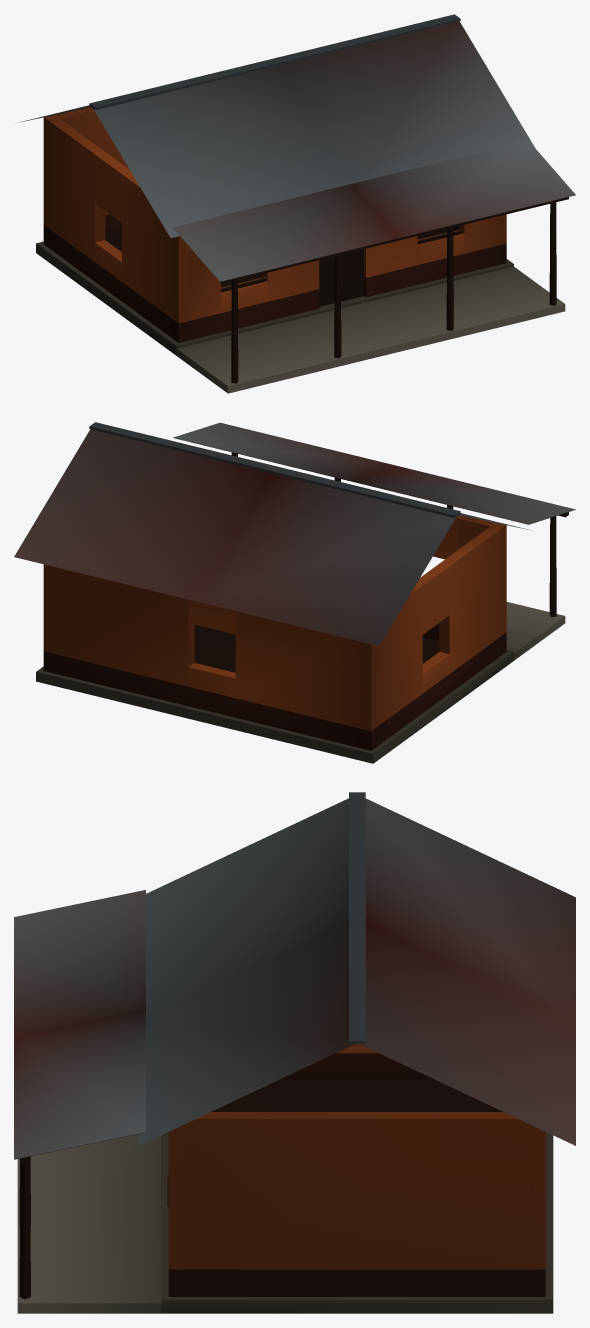
File: fm_house_lod1.glb
3 renders of one model, top to bottom at view 1: azimuth 30°, elevation 25°; view 2: azimuth 150°, elevation 25°; view 3: azimuth 270°, elevation 25°, orthographic. The views are drawn at different scales.
Parts seen in each view (by area): view 1: fm_house_lod1; view 2: fm_house_lod1; view 3: fm_house_lod1.
Part boxes in pixels (<box>): fm_house_lod1: <box>20,14,575,393</box>; fm_house_lod1: <box>14,422,575,763</box>; fm_house_lod1: <box>14,792,575,1313</box>.
Size of the model in its own units: 7.8 by 4.13 by 7.45.
